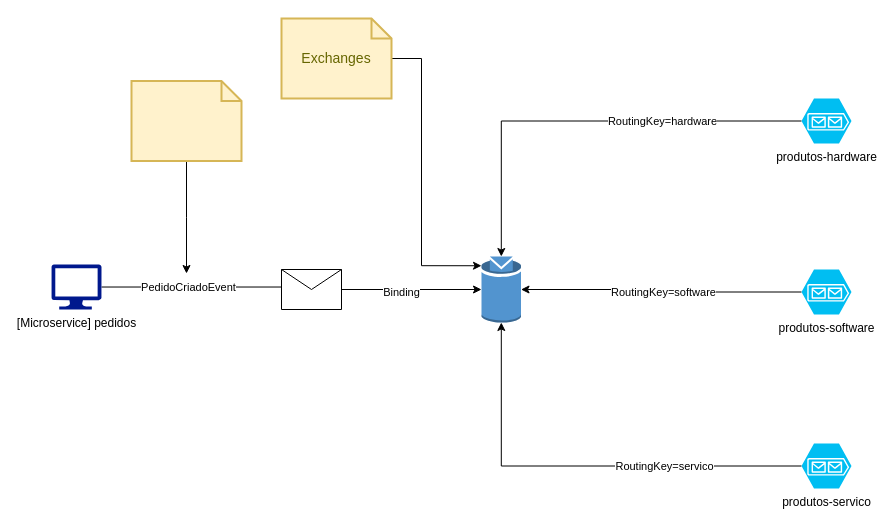
Some shapes in this 894 by 526 pixel diagram are drawn without their labels. The shapes that lost their labels are listed below. From the top down, each one's centre as x and y in pixels, then its label:
the point at 186,121: Evento de domínio
the point at 311,289: Dados do pedido
the point at 500,289: [Direct] Novos pedidos
